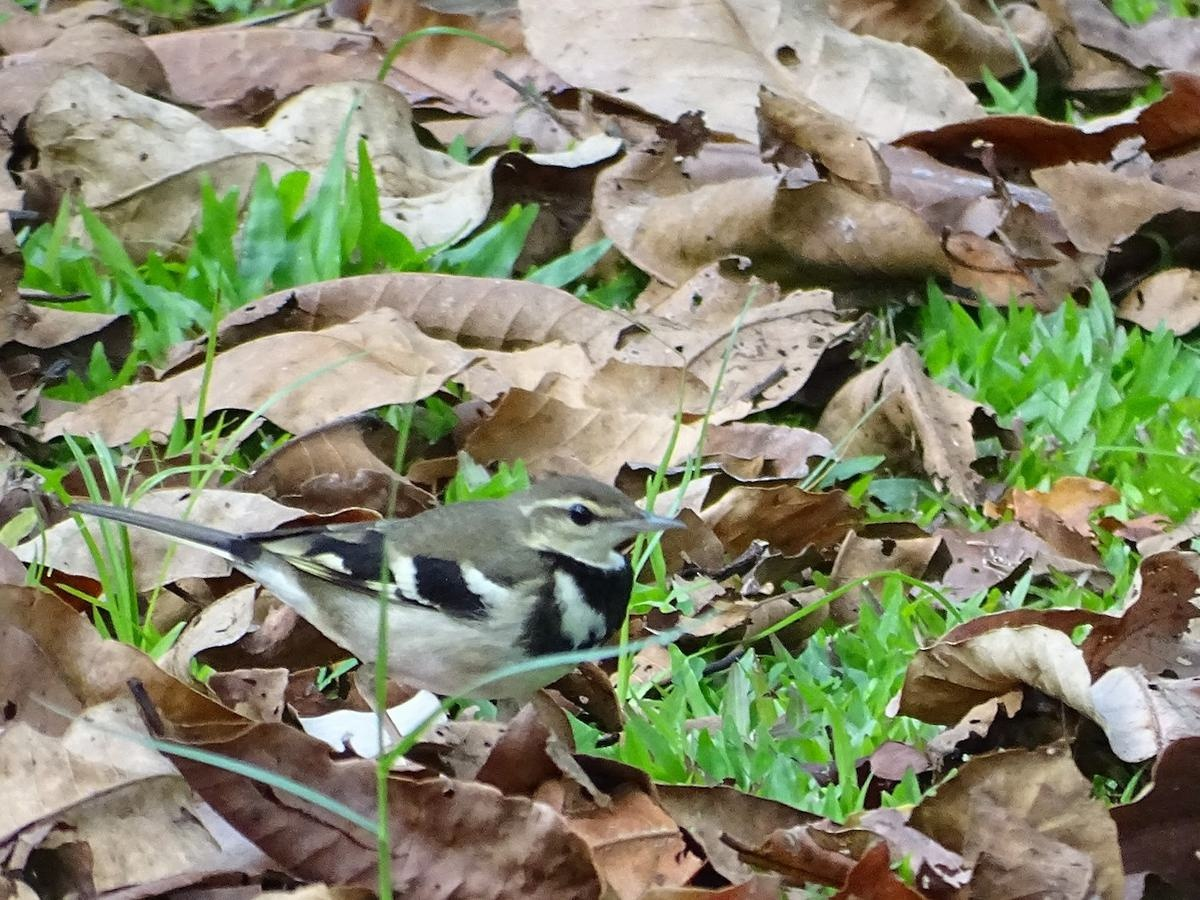wagtail: (168, 462, 670, 702)
